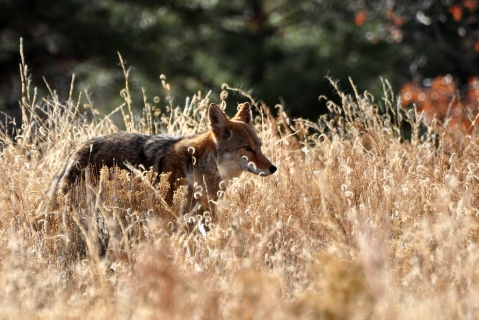Fox: (33, 100, 277, 258)
